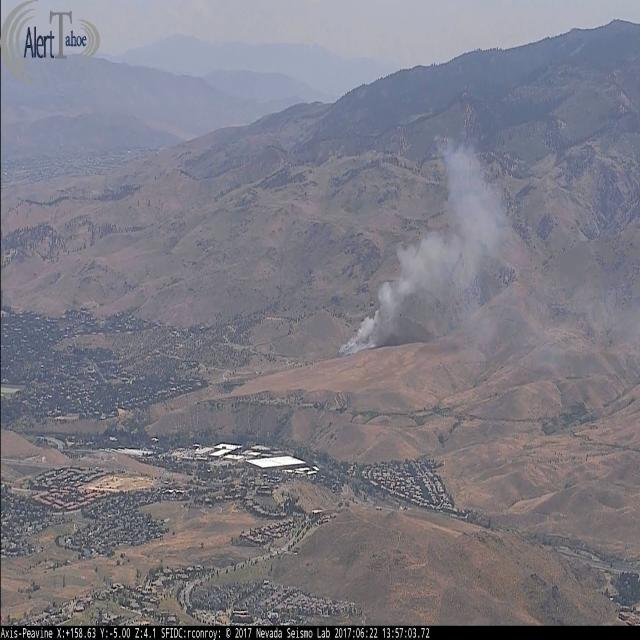smoke: (338, 141, 509, 365)
